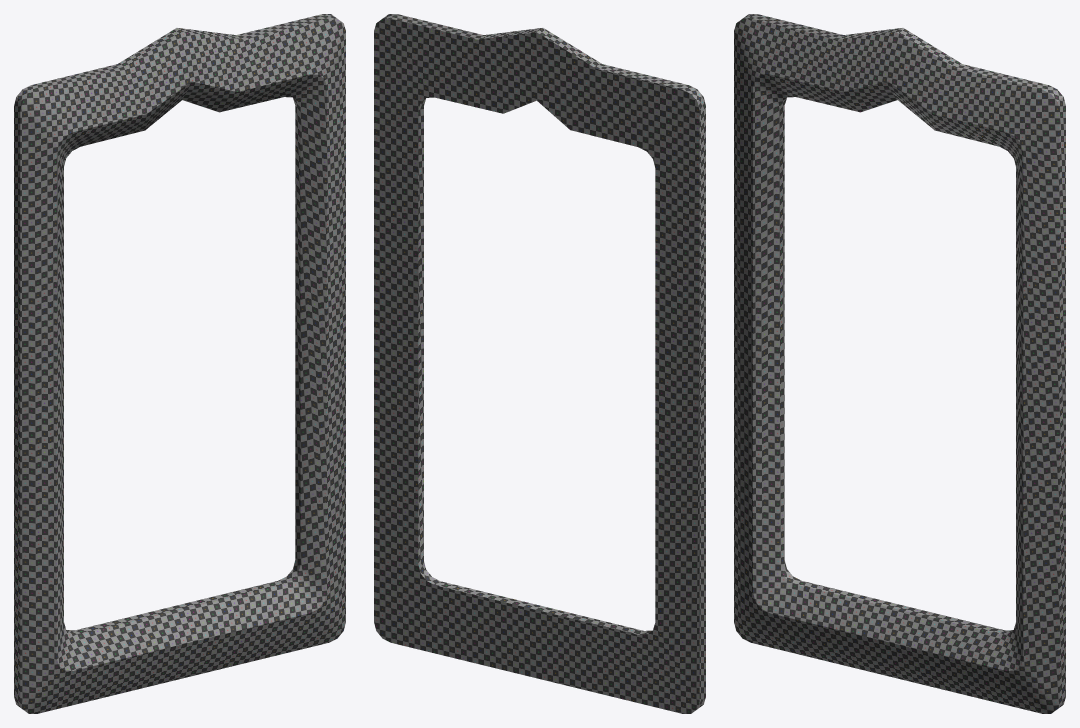
Rendered from Frame2.glb.
The picture shows the model from 3 angles, left to right: view 1: azimuth 30°, elevation 25°; view 2: azimuth 150°, elevation 25°; view 3: azimuth 330°, elevation 25°; orthographic projection.
Parts seen in each view (by area): view 1: Frame; view 2: Frame; view 3: Frame.
Part boxes in pixels (<box>): Frame: <box>14,14,345,713</box>; Frame: <box>374,14,705,713</box>; Frame: <box>734,14,1065,713</box>.
Bounding box in the file's own units: 2.76 × 5.22 × 0.2197.
Materials: 1 (1 with a texture image).
